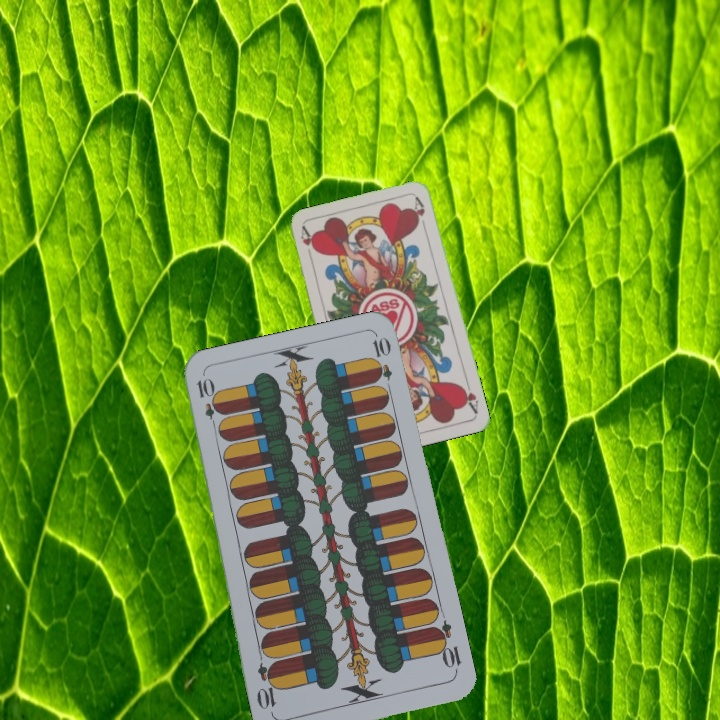E10: (429, 617, 464, 676), (193, 374, 221, 433)
HA: (457, 376, 481, 416), (297, 223, 318, 264)
